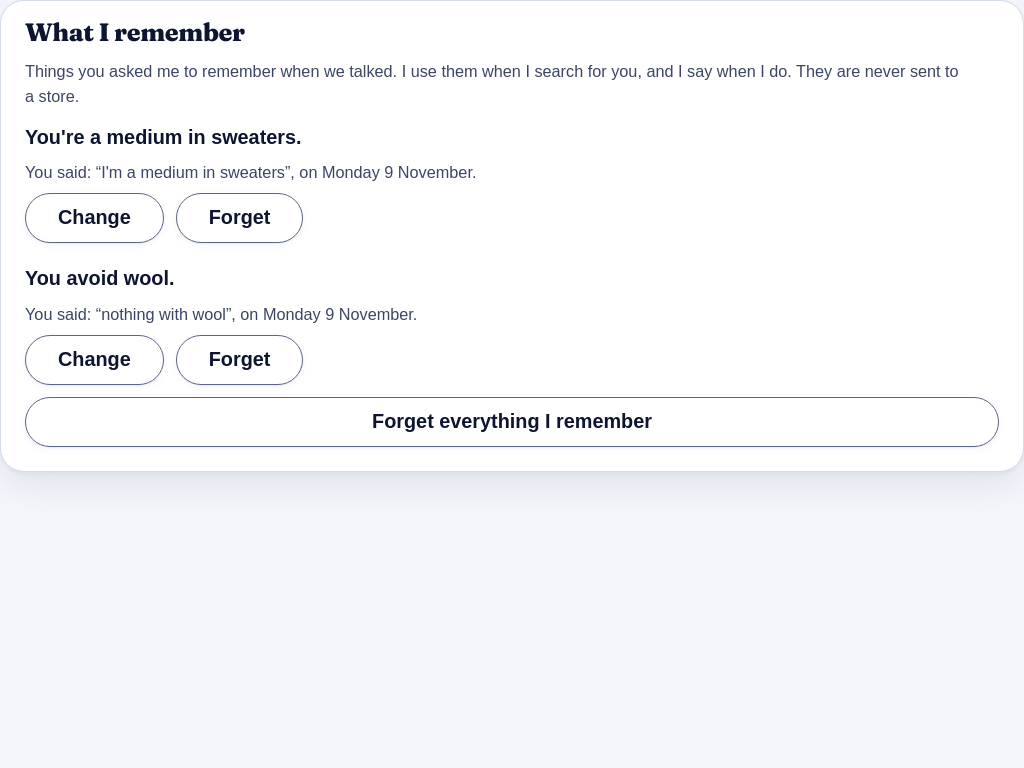
Scenario: What I remember › forget one, and forget everything only after asking
Click the button "Forget" below "You're a medium in sweaters.".
click(240, 218)  # box 176,194 -> 303,243
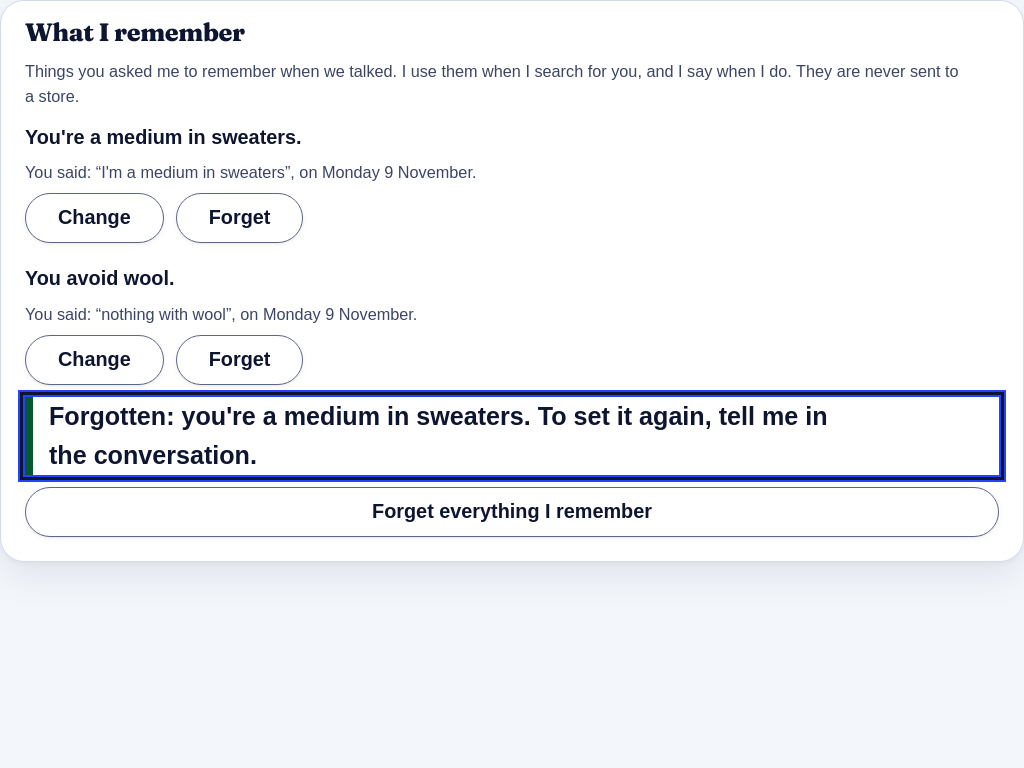
expect the text "Forgotten: you're a medium in sweaters." is shown: met, box 49,402 -> 828,469
Click the button "Forget everything I remember".
click(512, 512)  # box 25,487 -> 999,537
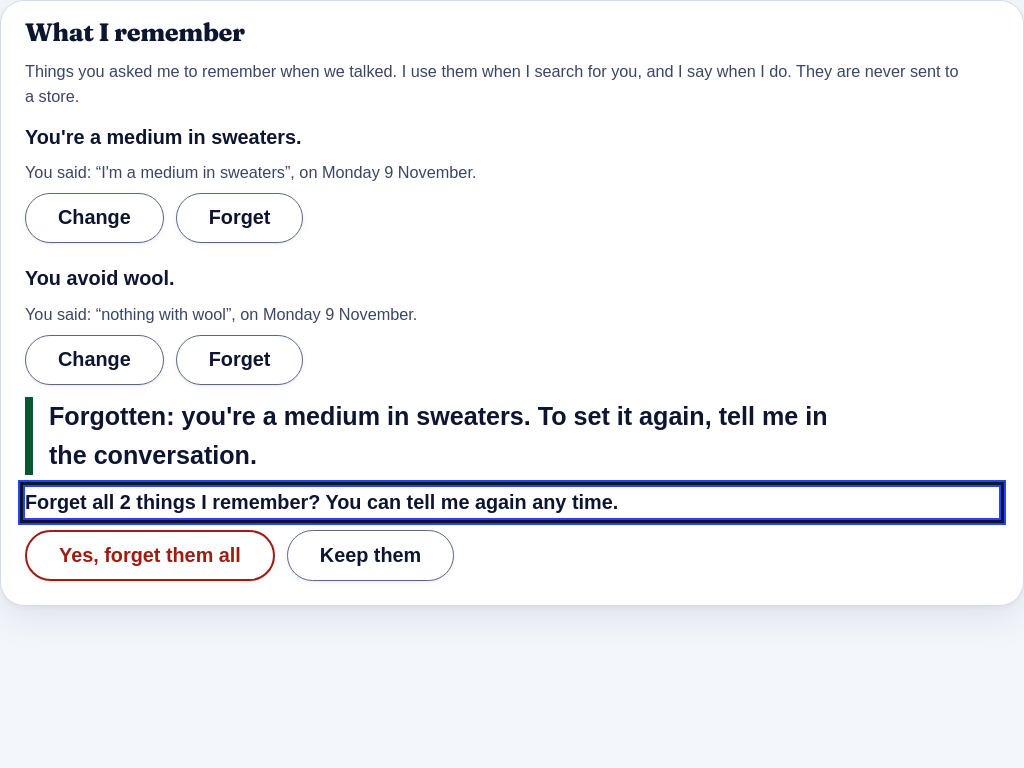
Click the button "Keep them".
click(370, 556)  # box 287,530 -> 454,581
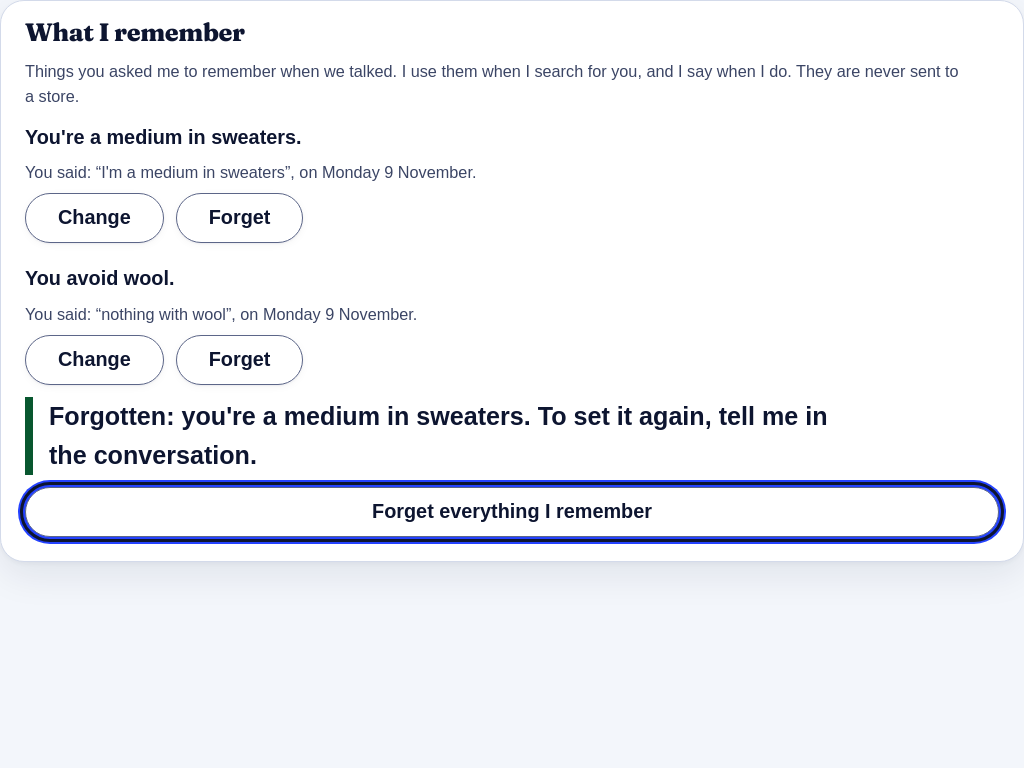
Click the button "Forget everything I remember".
click(512, 512)  # box 25,487 -> 999,537
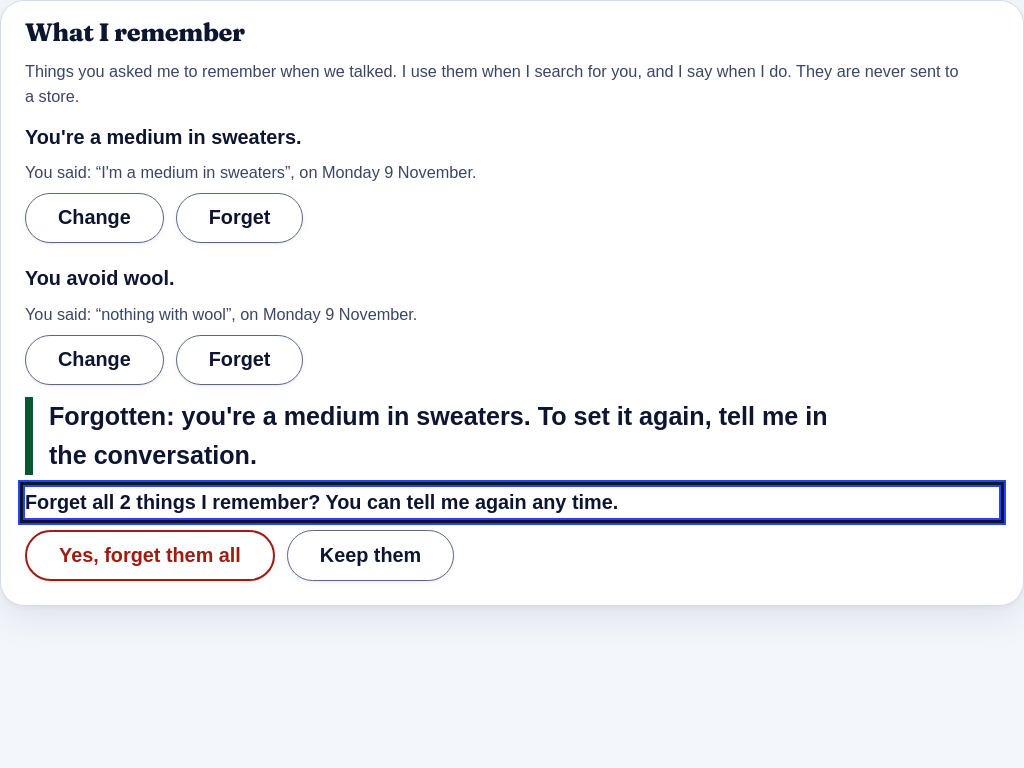
Click the button "Yes, forget them all".
click(150, 556)  # box 25,530 -> 275,581
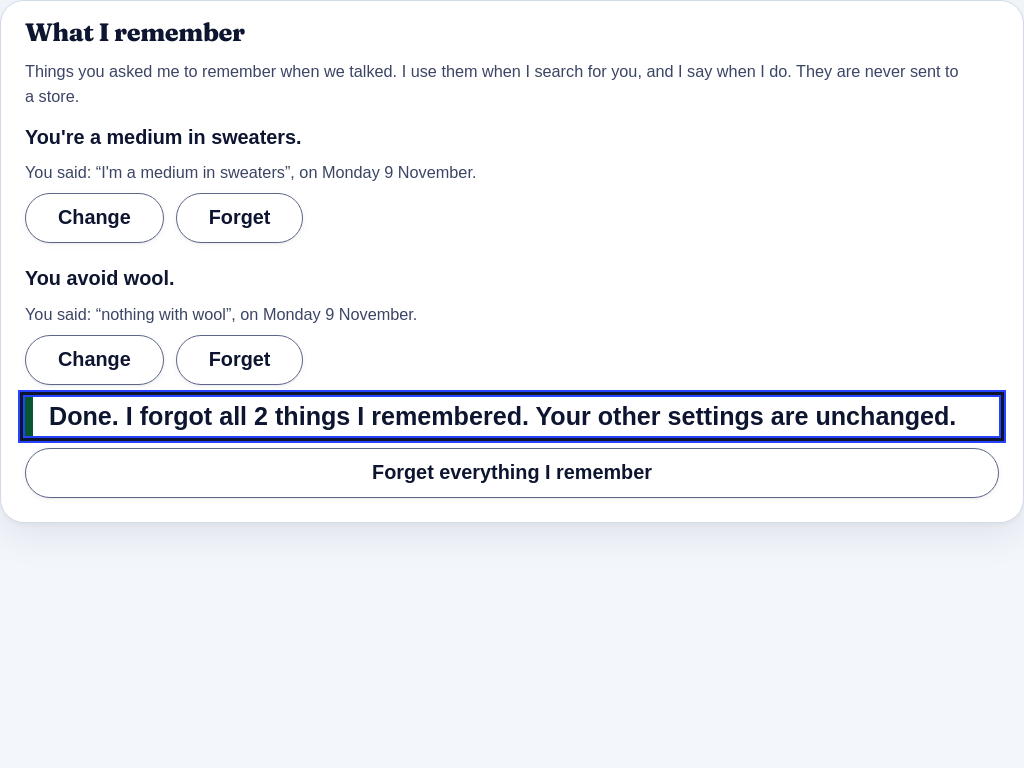
expect the text "Done. I forgot all 2 things I remembered. Your other settings are unchanged." is shown: met, box 25,397 -> 999,436
